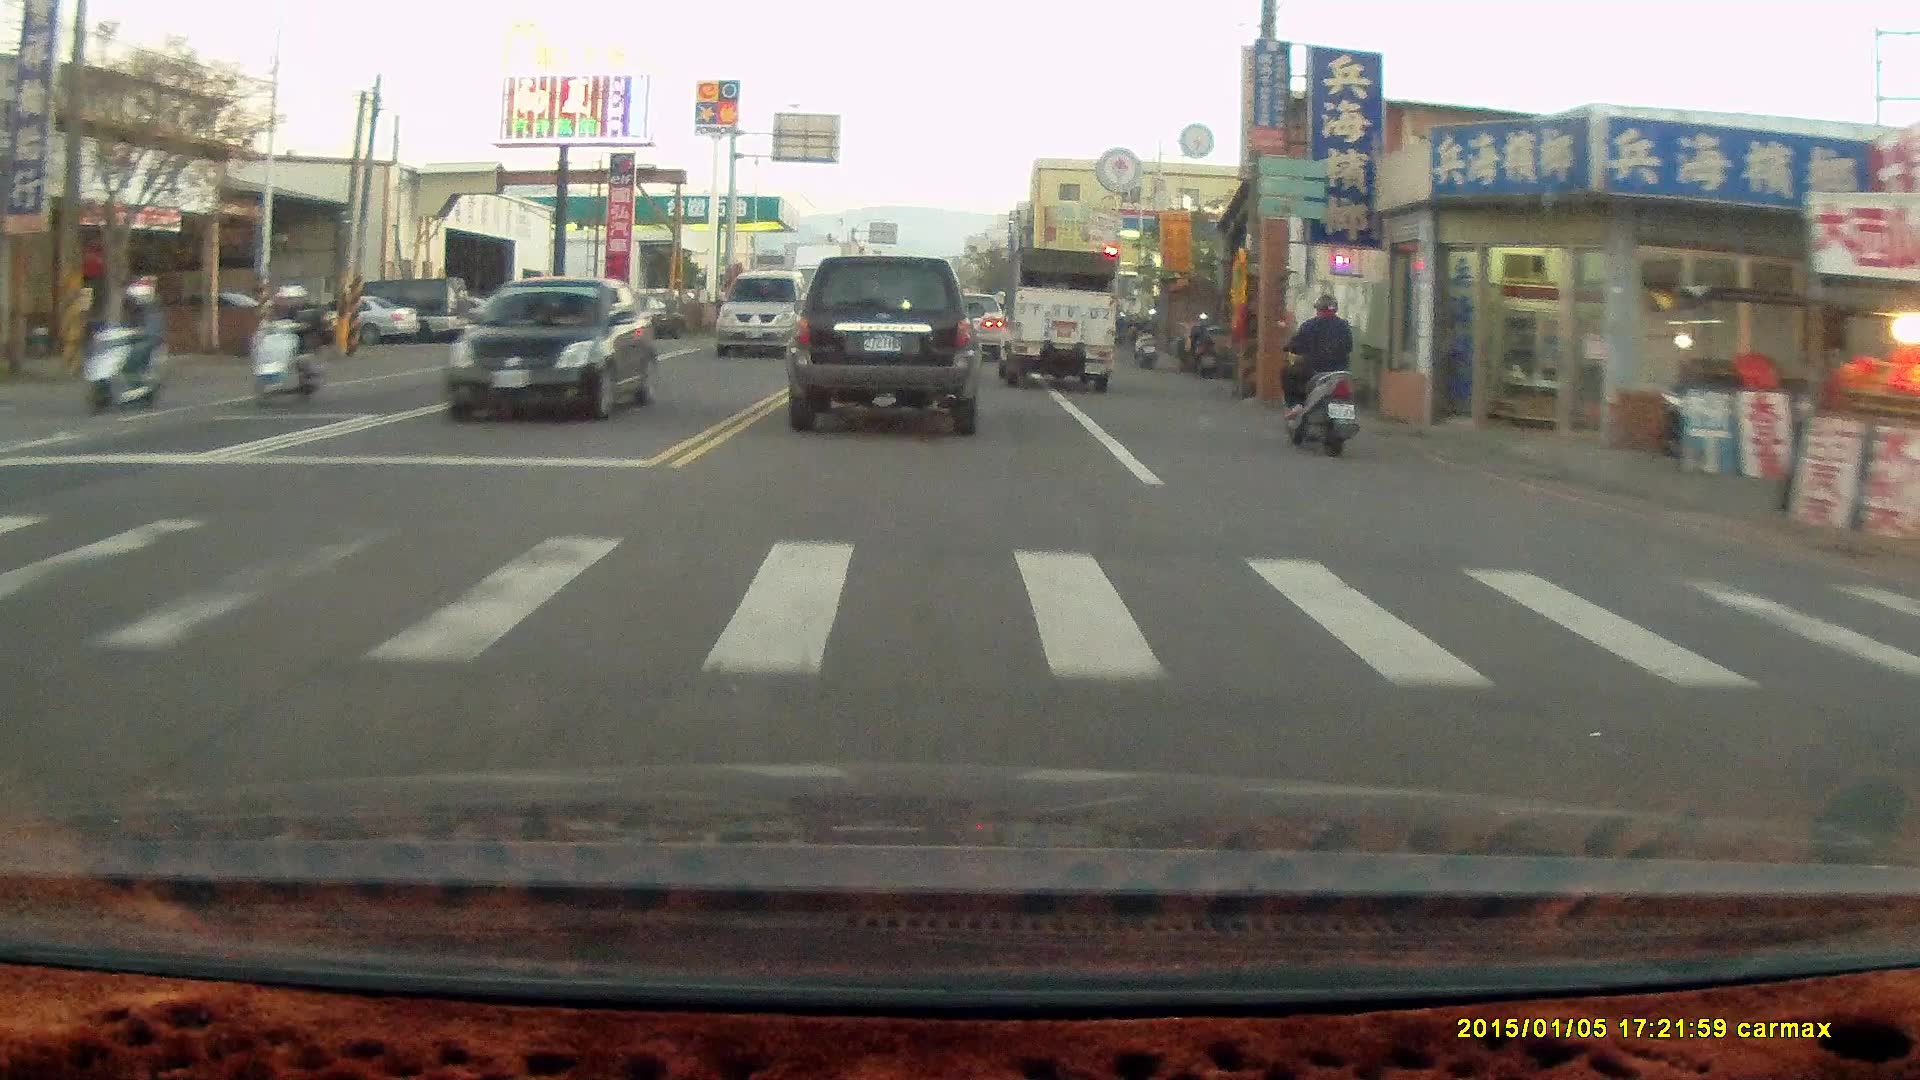rider: (1269, 277, 1361, 444), (79, 275, 166, 415), (245, 275, 333, 402)
vehicle: (784, 253, 982, 434), (448, 275, 660, 418), (993, 245, 1117, 393), (714, 268, 816, 357), (473, 288, 591, 353)
